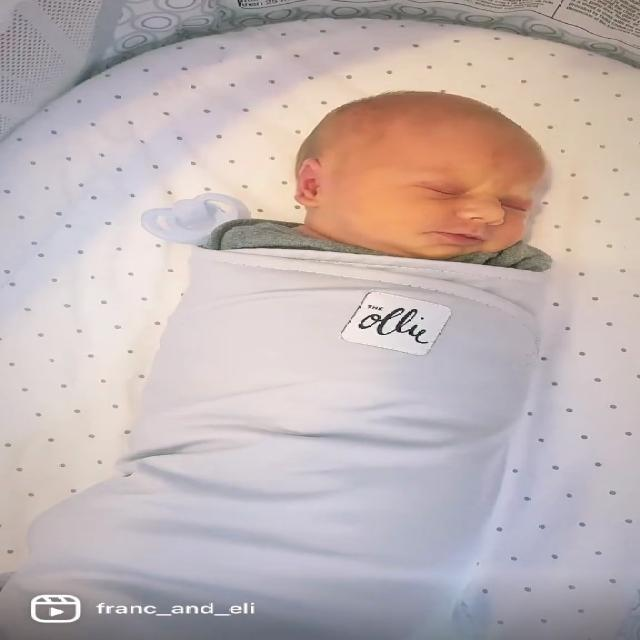baby: (0, 86, 570, 640)
